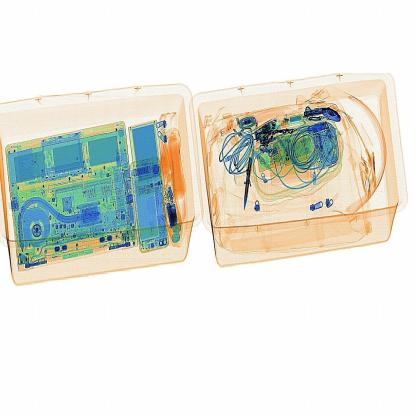gun: (237, 127, 258, 217)
